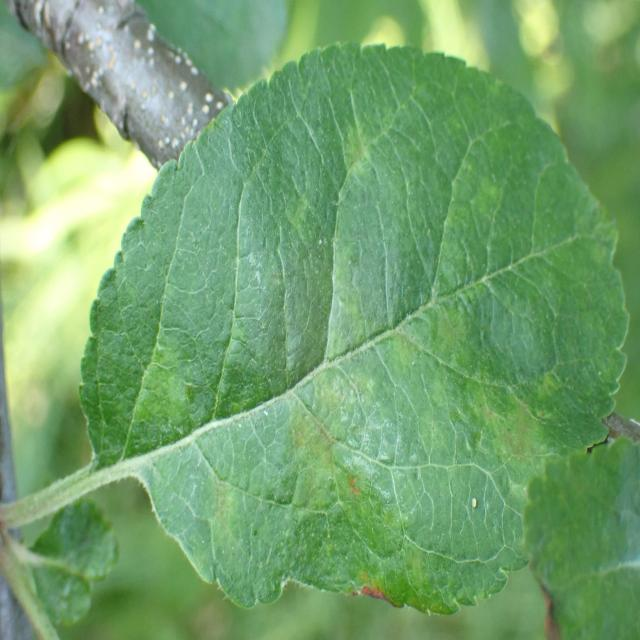scab: (113, 118, 604, 600)
